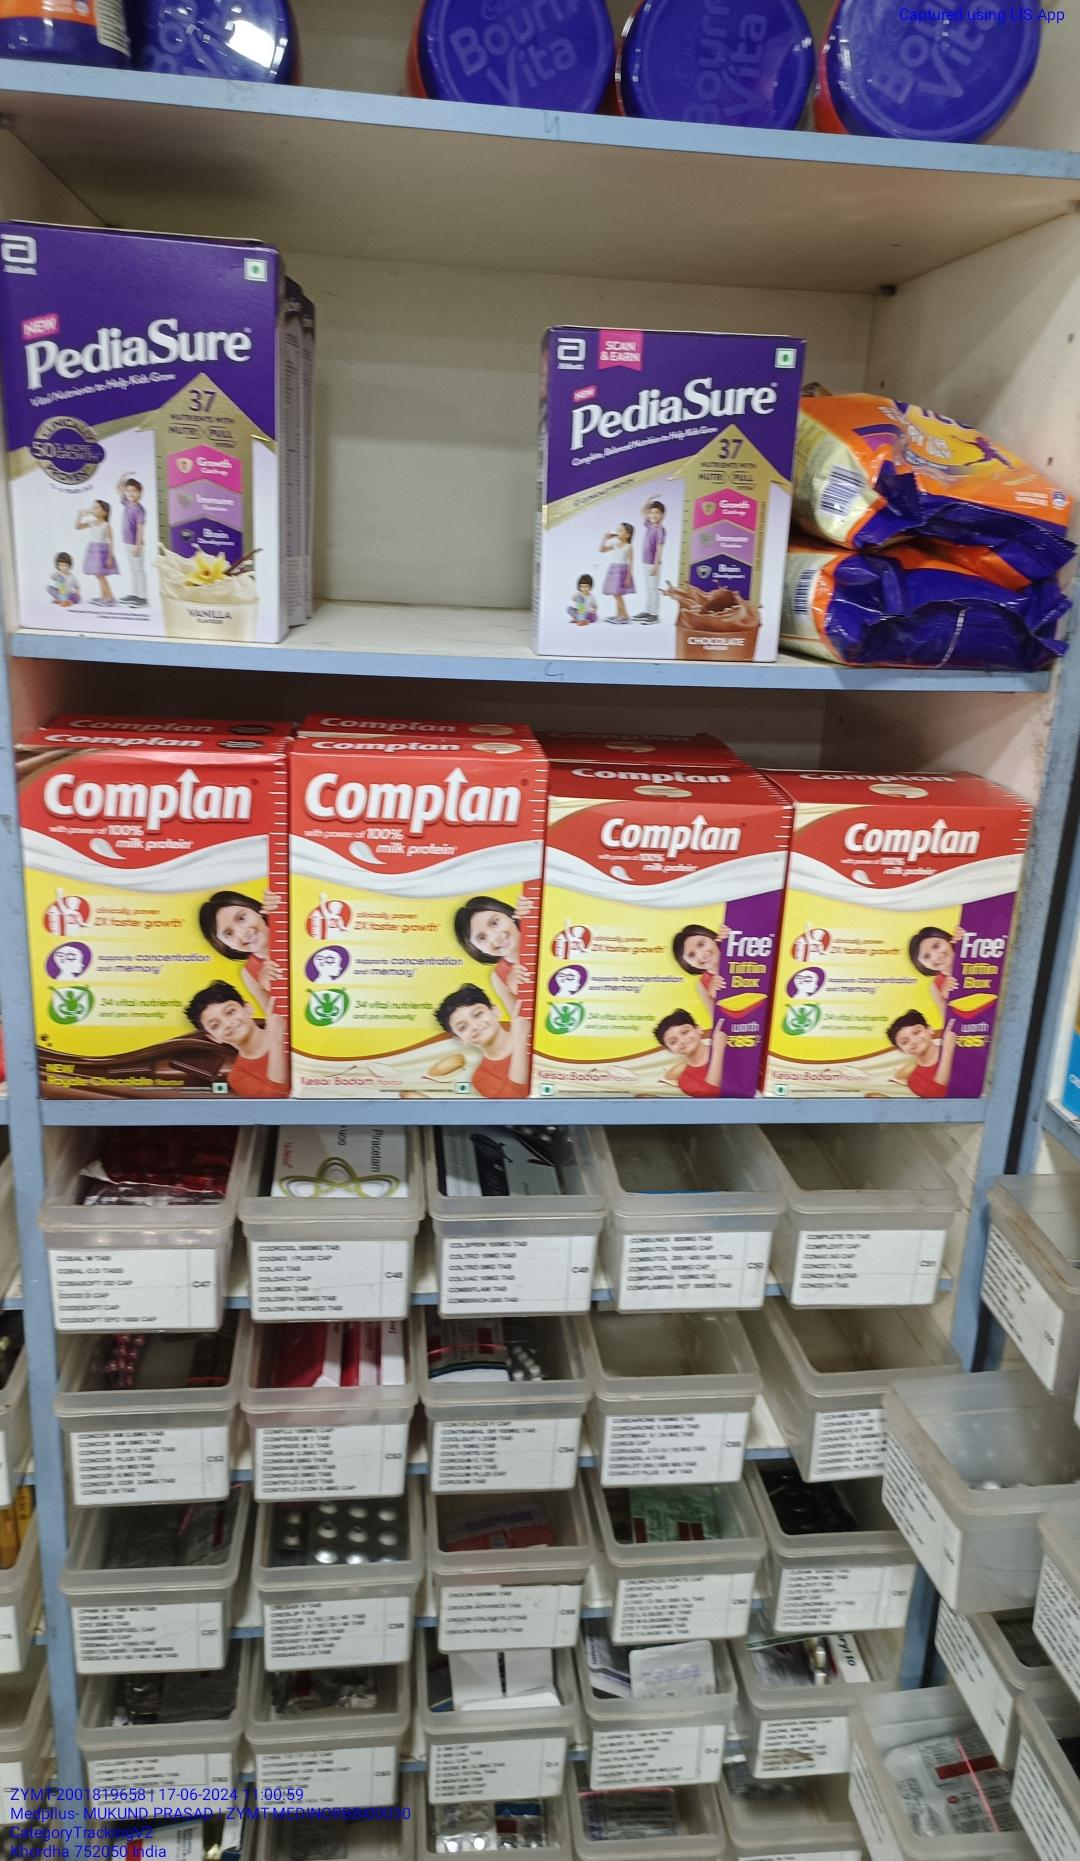COMPLAN_CHOCOLATE_500_GMS_PACK: (21, 752, 284, 1098)
COMPLAN_KESAR_BADAM_500_GMS_PACK: (289, 753, 534, 1095), (777, 806, 1009, 1104), (546, 794, 764, 1105)
PEDIASURE_CHOCOLATE_500_G_PACK: (548, 326, 774, 662)
PEDIASURE_VANILLA_500_G_PACK: (4, 235, 274, 640)
